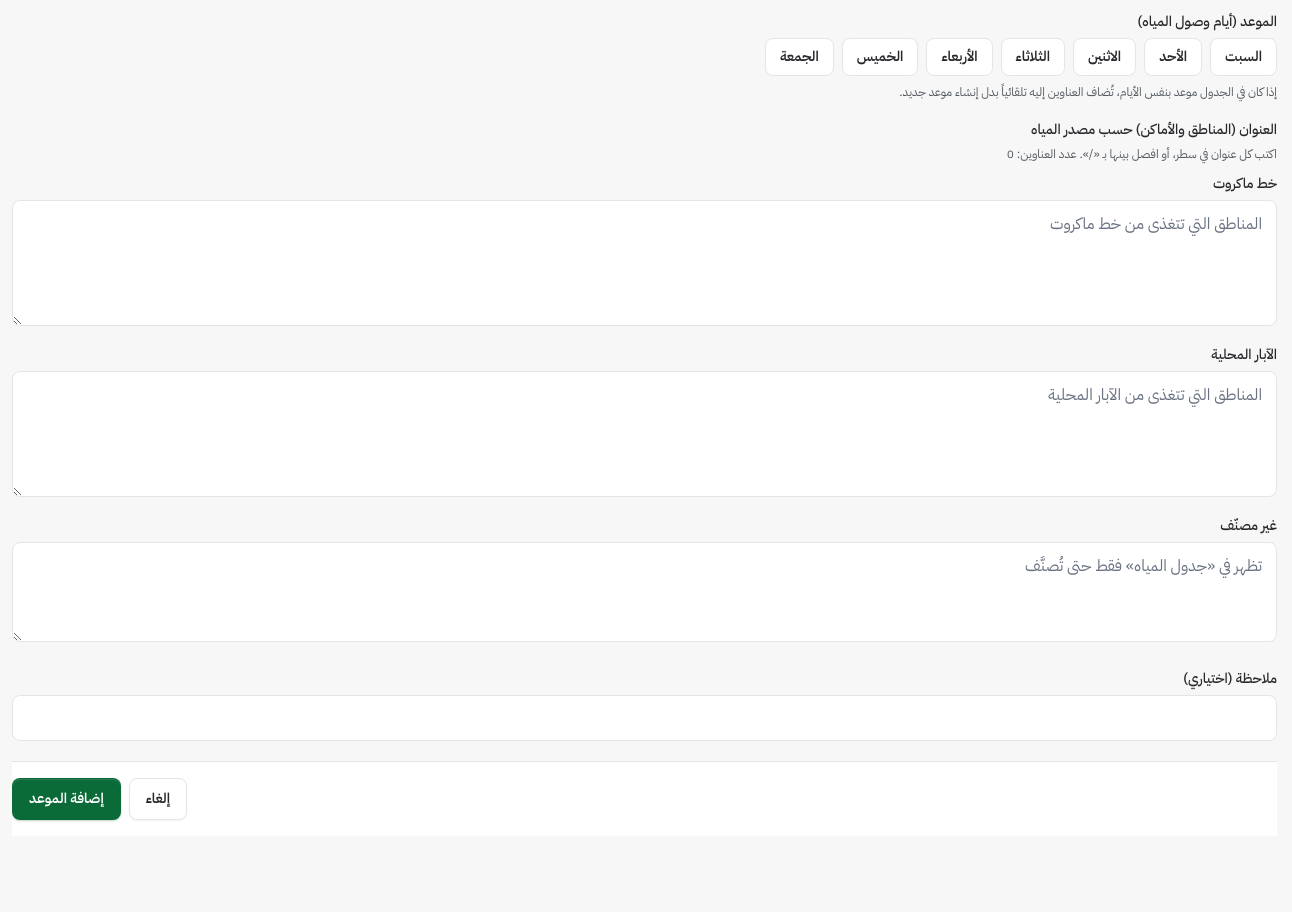
Scenario: WaterRowForm › requires at least one day and one address
Click the button "إضافة الموعد". click: coordinates (66, 799)
box: [12,778,121,820]
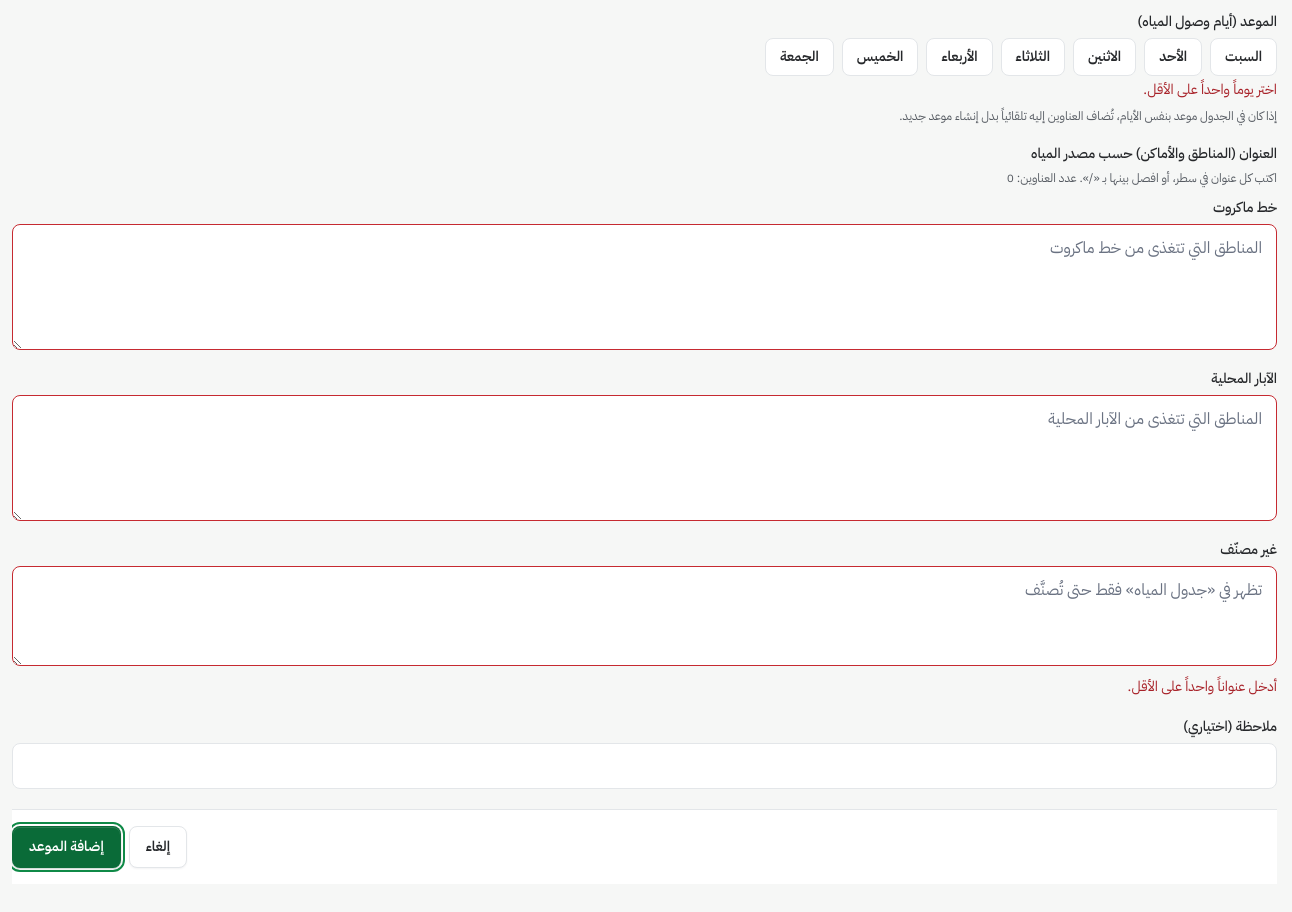
Check: the text "اختر يوماً واحداً على الأقل." is shown, box [1143,79,1277,100]
Check: the text "أدخل عنواناً واحداً على الأقل." is shown, box [1128,676,1277,697]
